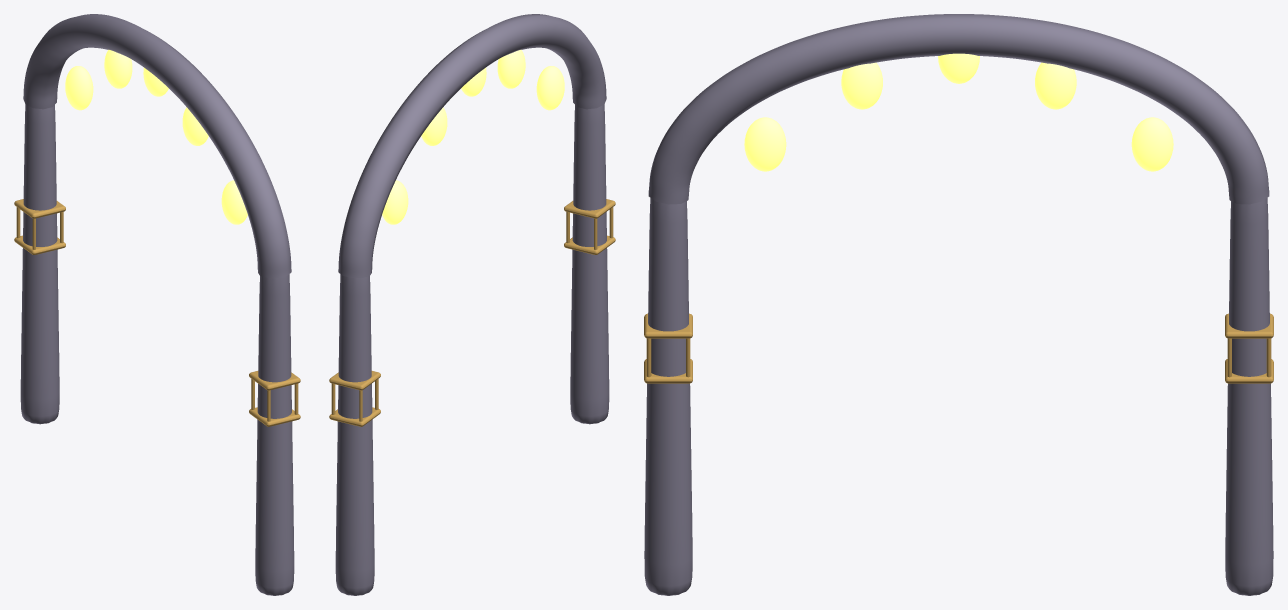
The model's file is OrchardGate.glb.
3 views of the same model, side by side, from view 1: azimuth 30°, elevation 25°; view 2: azimuth 150°, elevation 25°; view 3: azimuth 270°, elevation 25° (orthographic). The views are drawn at different scales.
Visible parts, largest first — view 1: Orchard silver arch, Orchard arch post.001, Orchard arch post, Orchard arch moon, Orchard arch moon.001, Orchard arch moon.004, Orchard arch moon.003, Lantern rim.001, Lantern rim.003, Orchard arch moon.002, Lantern rim.002; view 2: Orchard silver arch, Orchard arch post, Orchard arch post.001, Orchard arch moon.004, Orchard arch moon.003, Orchard arch moon, Orchard arch moon.001, Lantern rim.003, Lantern rim.001, Orchard arch moon.002, Lantern rim; view 3: Orchard silver arch, Orchard arch post, Orchard arch post.001, Orchard arch moon, Orchard arch moon.004, Orchard arch moon.001, Orchard arch moon.003, Orchard arch moon.002.
Part boxes in pixels (left/top/right/bottom): Orchard silver arch: left=23, top=14, right=291, bottom=277; Orchard arch post.001: left=255, top=274, right=294, bottom=595; Orchard arch post: left=20, top=104, right=59, bottom=424; Orchard arch moon: left=65, top=66, right=93, bottom=110; Orchard arch moon.001: left=104, top=49, right=132, bottom=88; Orchard arch moon.004: left=221, top=180, right=247, bottom=224; Orchard arch moon.003: left=182, top=107, right=208, bottom=145; Lantern rim.001: left=14, top=199, right=65, bottom=218; Lantern rim.003: left=249, top=371, right=300, bottom=390; Orchard arch moon.002: left=143, top=67, right=168, bottom=96; Lantern rim.002: left=249, top=407, right=300, bottom=426; Orchard silver arch: left=338, top=14, right=606, bottom=277; Orchard arch post: left=335, top=274, right=374, bottom=595; Orchard arch post.001: left=570, top=104, right=609, bottom=424; Orchard arch moon.004: left=536, top=66, right=564, bottom=110; Orchard arch moon.003: left=497, top=49, right=525, bottom=88; Orchard arch moon: left=382, top=180, right=408, bottom=224; Orchard arch moon.001: left=421, top=107, right=447, bottom=145; Lantern rim.003: left=564, top=199, right=615, bottom=218; Lantern rim.001: left=329, top=371, right=380, bottom=390; Orchard arch moon.002: left=461, top=67, right=486, bottom=96; Lantern rim: left=329, top=407, right=380, bottom=426; Orchard silver arch: left=648, top=14, right=1269, bottom=204; Orchard arch post: left=1225, top=198, right=1273, bottom=595; Orchard arch post.001: left=644, top=198, right=692, bottom=595; Orchard arch moon: left=1131, top=117, right=1173, bottom=171; Orchard arch moon.004: left=744, top=117, right=786, bottom=171; Orchard arch moon.001: left=1035, top=62, right=1076, bottom=109; Orchard arch moon.003: left=841, top=62, right=882, bottom=109; Orchard arch moon.002: left=938, top=53, right=979, bottom=83.
Bounding box in the file's own units: 0.304 × 3.92 × 3.9.
